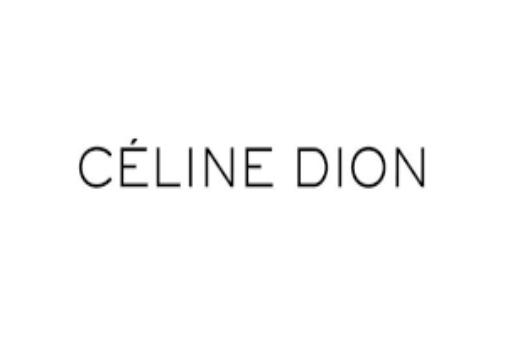CELINE: (74, 122, 273, 209)
